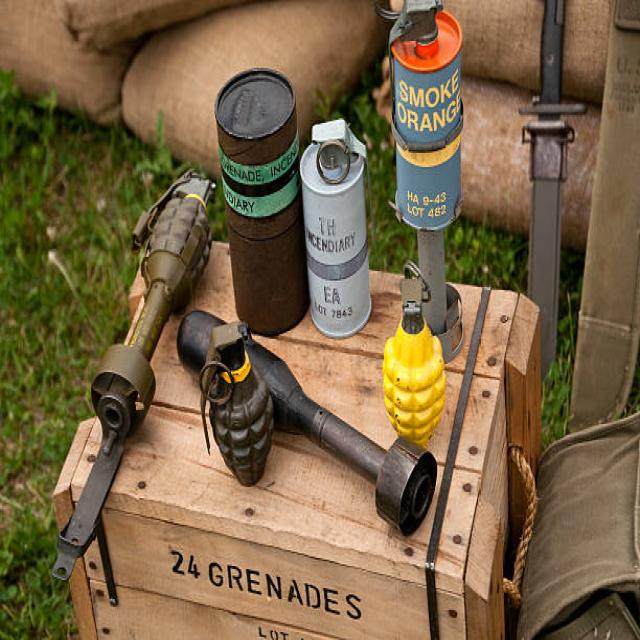grenade: (199, 317, 285, 491), (378, 260, 456, 445)
